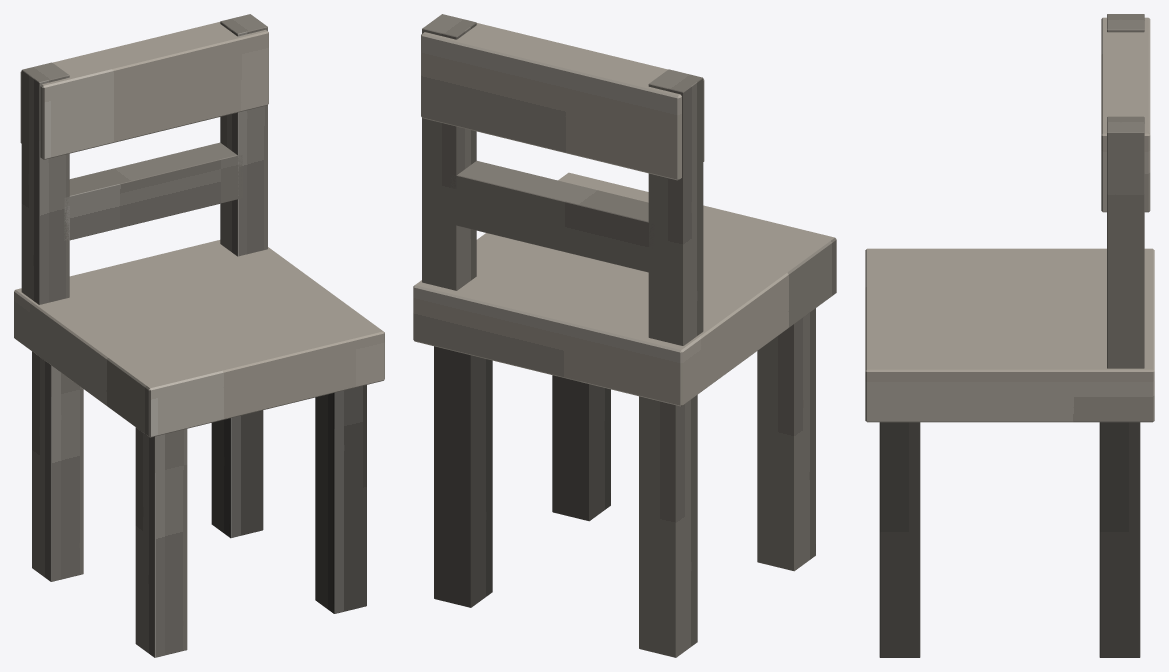
Rendered from wooden_chair_ash.glb.
3 views of the same model, side by side, from view 1: azimuth 30°, elevation 25°; view 2: azimuth 150°, elevation 25°; view 3: azimuth 270°, elevation 25° (orthographic). The views are drawn at different scales.
Parts seen in each view (by area): view 1: ChairSeat, BackTop, ChairLeg_1, ChairLeg_2, ChairLeg_3, BackRail, BackPost_L, BackPost_R, ChairLeg_4; view 2: ChairSeat, BackTop, ChairLeg_3, ChairLeg_4, ChairLeg_1, BackRail, BackPost_L, BackPost_R, ChairLeg_2; view 3: ChairSeat, ChairLeg_2, ChairLeg_4, BackPost_R, BackTop, BackPost_L.
Boxes of the visible parts, x1,y1,x2,y2 form: ChairSeat: (14, 240, 384, 437); BackTop: (20, 22, 268, 159); ChairLeg_1: (135, 427, 187, 657); ChairLeg_2: (315, 385, 366, 613); ChairLeg_3: (32, 351, 83, 581); BackRail: (64, 142, 242, 240); BackPost_L: (21, 62, 69, 304); BackPost_R: (220, 14, 267, 256); ChairLeg_4: (211, 410, 263, 538); ChairSeat: (413, 172, 836, 406); BackTop: (421, 23, 704, 180); ChairLeg_3: (639, 395, 697, 657); ChairLeg_4: (434, 346, 492, 607); ChairLeg_1: (757, 308, 815, 571); BackRail: (450, 161, 654, 272); BackPost_L: (648, 69, 703, 345); BackPost_R: (422, 14, 476, 290); ChairLeg_2: (552, 375, 610, 521); ChairSeat: (865, 248, 1154, 422); ChairLeg_2: (879, 422, 920, 657); ChairLeg_4: (1099, 422, 1140, 657); BackPost_R: (1107, 116, 1144, 368); BackTop: (1101, 17, 1150, 212); BackPost_L: (1107, 14, 1144, 32).
Bounding box in the file's own units: 0.5 × 1.01 × 0.5.
Materials: 1 (1 with a texture image).
